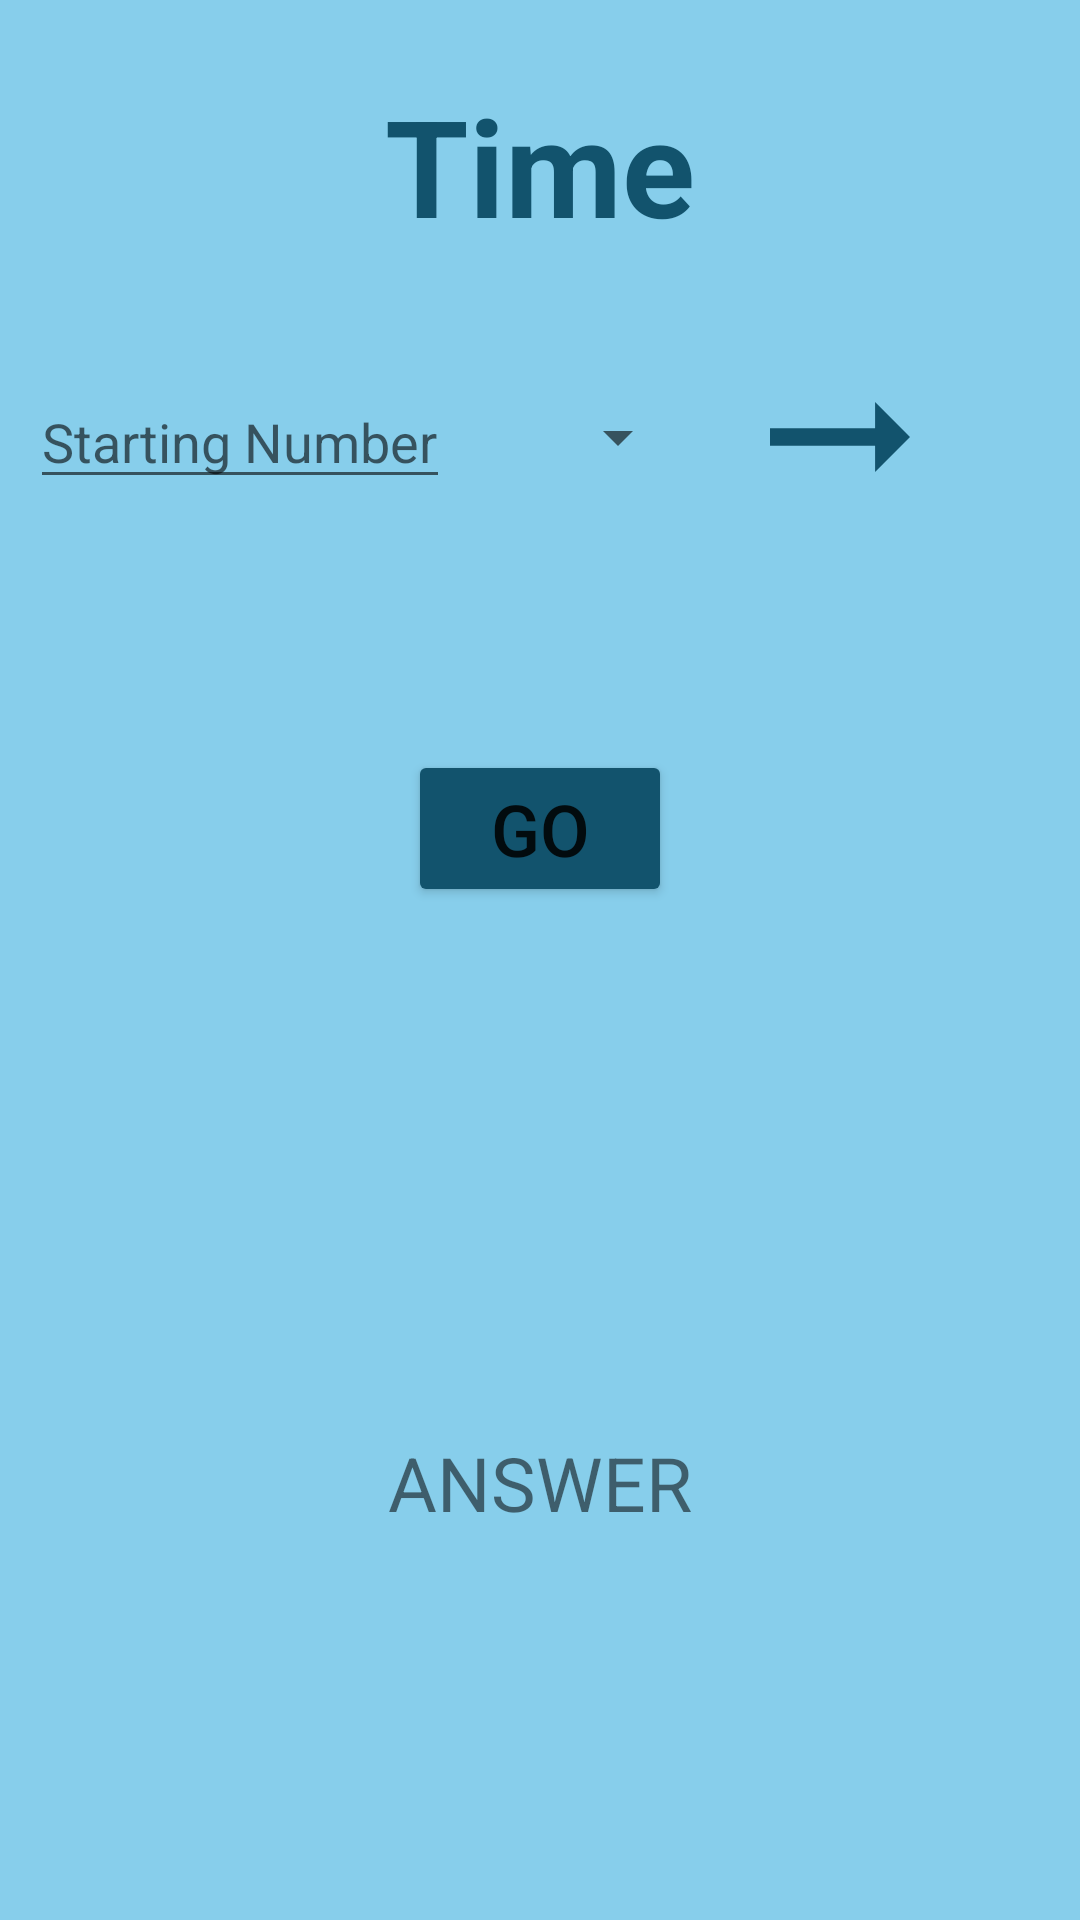

Where icons sit on this 1080*1920 app screen, as (x1, y1, x2, y2):
arrow: (770, 402, 910, 472)
